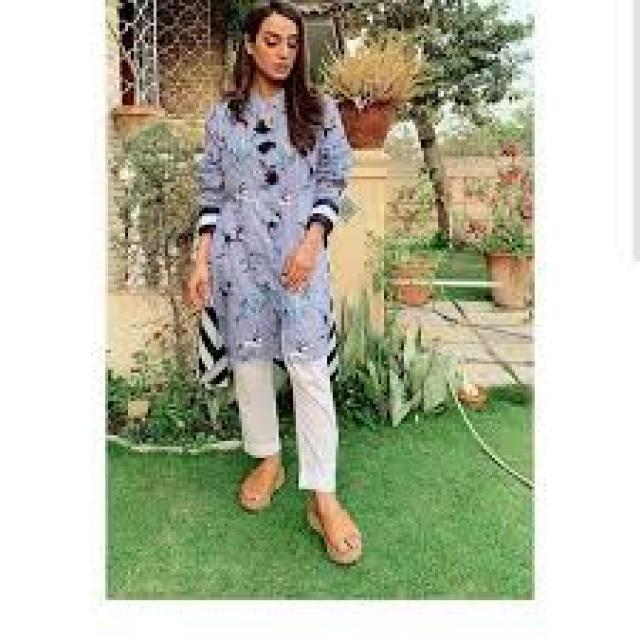No_Shoe: (304, 490, 371, 570)
